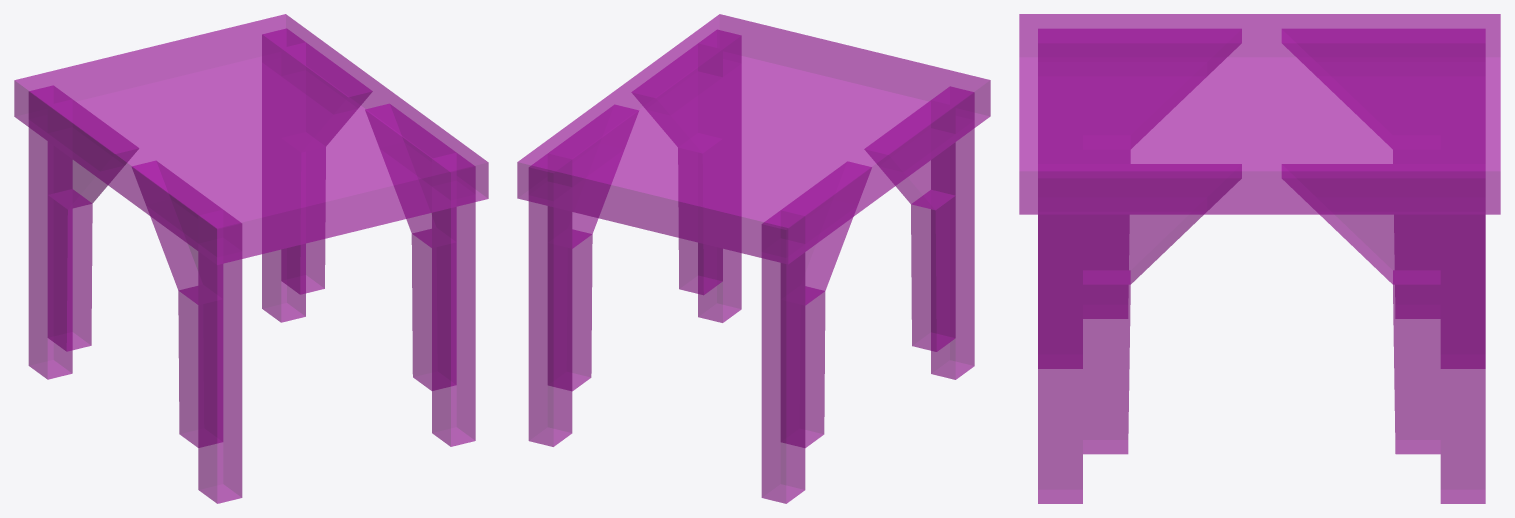
Rendered from SM_Prop_Bed_Canopy_01_Collision.fbx.
The picture shows the model from 3 angles, left to right: view 1: azimuth 30°, elevation 25°; view 2: azimuth 150°, elevation 25°; view 3: azimuth 270°, elevation 25°; orthographic projection. The views are drawn at different scales.
Parts seen in each view (by area): view 1: SM_Prop_Bed_Canopy_01_Collision; view 2: SM_Prop_Bed_Canopy_01_Collision; view 3: SM_Prop_Bed_Canopy_01_Collision.
Boxes of the visible parts, left/top/right/bottom form: SM_Prop_Bed_Canopy_01_Collision: left=14, top=14, right=488, bottom=503; SM_Prop_Bed_Canopy_01_Collision: left=517, top=14, right=990, bottom=503; SM_Prop_Bed_Canopy_01_Collision: left=1019, top=14, right=1500, bottom=503.
Bounding box in the file's own units: 221 × 221 × 286.
